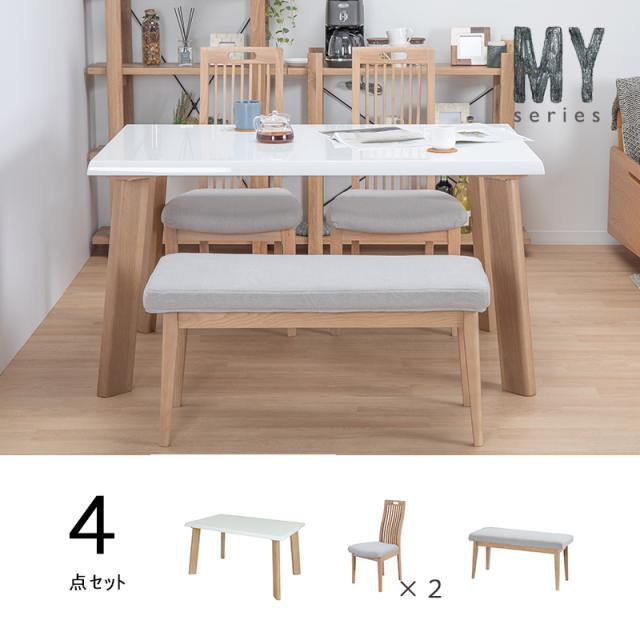white chair: (140, 239, 487, 458)
white desk: (95, 108, 554, 241)
